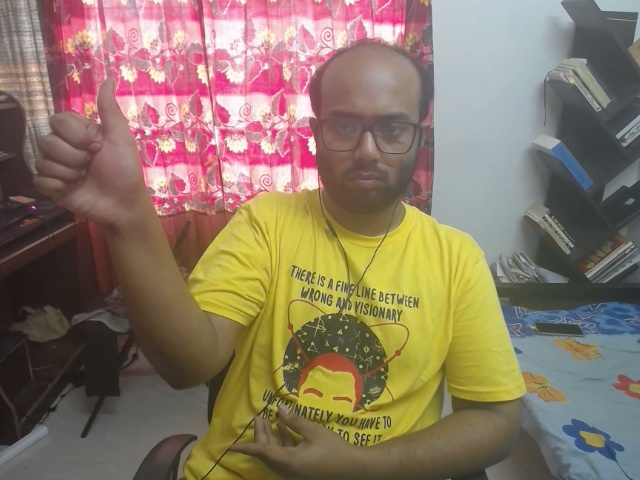six: (21, 76, 163, 223)
